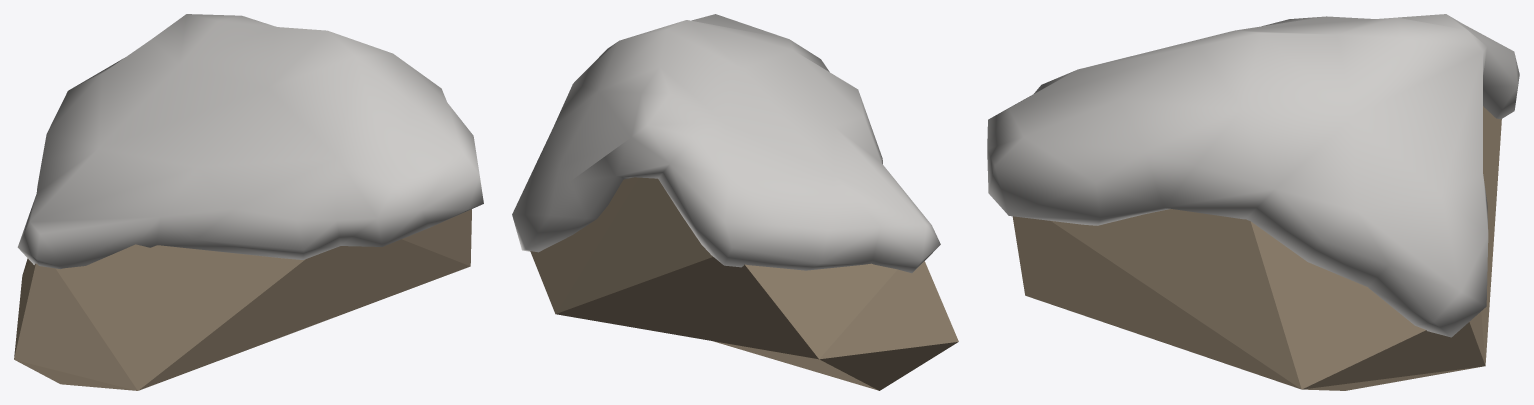
The model's file is Rock_w_Snow_002.fbx.
3 views of the same model, side by side, from view 1: azimuth 30°, elevation 25°; view 2: azimuth 150°, elevation 25°; view 3: azimuth 270°, elevation 25° (orthographic). The views are drawn at different scales.
Parts seen in each view (by area): view 1: Rock_w_Snow.002; view 2: Rock_w_Snow.002; view 3: Rock_w_Snow.002.
Boxes of the visible parts, <box> form: Rock_w_Snow.002: <box>14,14,483,390</box>; Rock_w_Snow.002: <box>512,14,958,390</box>; Rock_w_Snow.002: <box>987,14,1519,390</box>.
Size of the model in its own units: 497 by 348 by 426.
